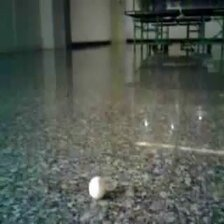w: (88, 176, 106, 199)
